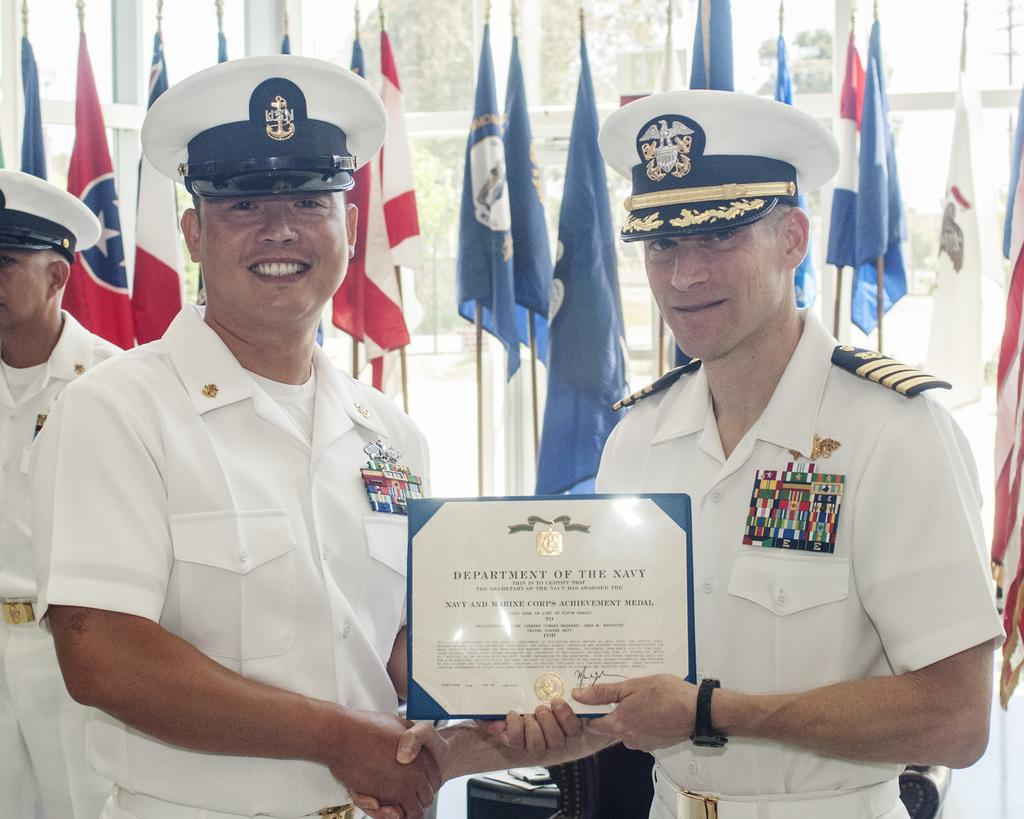Hat: (596, 85, 842, 240), (136, 51, 388, 201), (0, 165, 99, 259)
